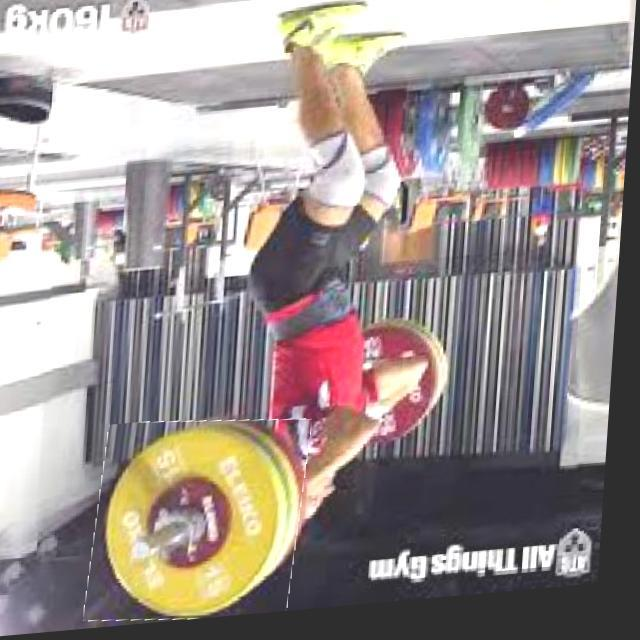barbell: (95, 417, 317, 632)
